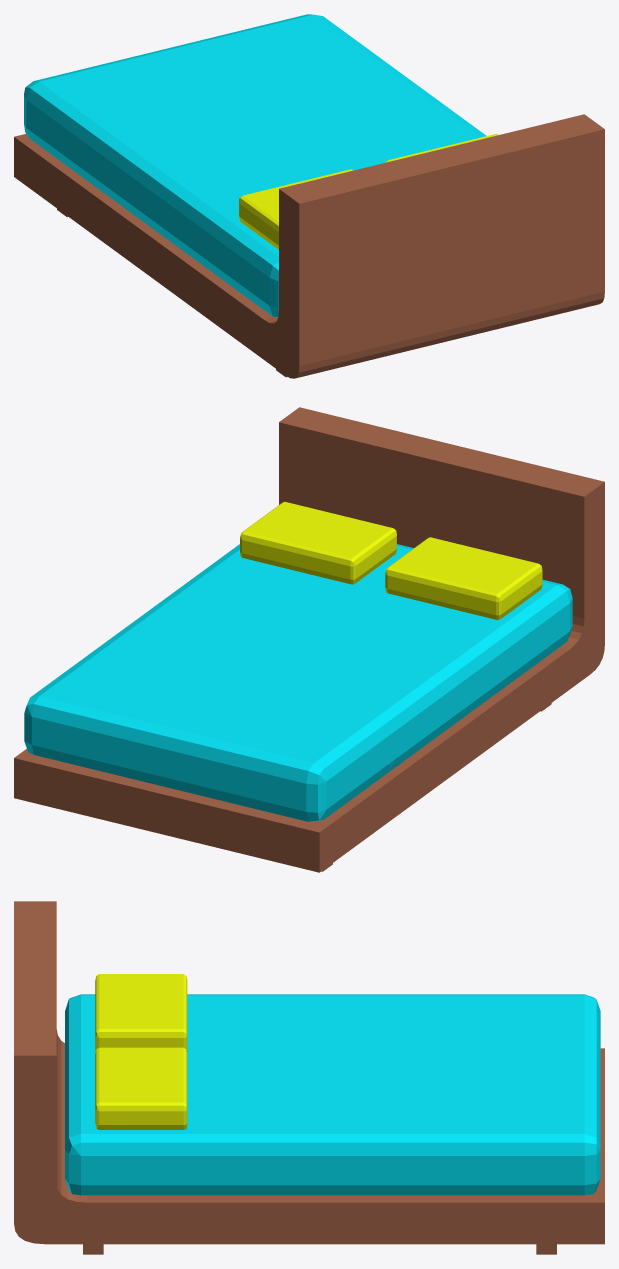
File: 6ce318cf-aa67-4934-8cdb-7102991f0a8e.glb
The picture shows the model from 3 angles, top to bottom: view 1: azimuth 30°, elevation 25°; view 2: azimuth 150°, elevation 25°; view 3: azimuth 270°, elevation 25°; orthographic projection. The views are drawn at different scales.
Parts seen in each view (by area): view 1: Box001, Box002, Box004; view 2: Box002, Box001, Box004, Box003; view 3: Box002, Box001, Box003, Box004.
Boxes of the visible parts, x1=… form: Box001: x1=14, y1=114, x2=604, y2=378; Box002: x1=24, y1=14, x2=486, y2=317; Box004: x1=239, y1=169, x2=353, y2=249; Box002: x1=24, y1=544, x2=572, y2=821; Box001: x1=14, y1=407, x2=604, y2=872; Box004: x1=385, y1=537, x2=542, y2=619; Box003: x1=240, y1=501, x2=396, y2=584; Box002: x1=65, y1=994, x2=600, y2=1195; Box001: x1=14, y1=901, x2=604, y2=1244; Box003: x1=95, y1=1047, x2=187, y2=1129; Box004: x1=95, y1=974, x2=187, y2=1051.
Size of the model in its own units: 337116 by 213932 by 545471.
